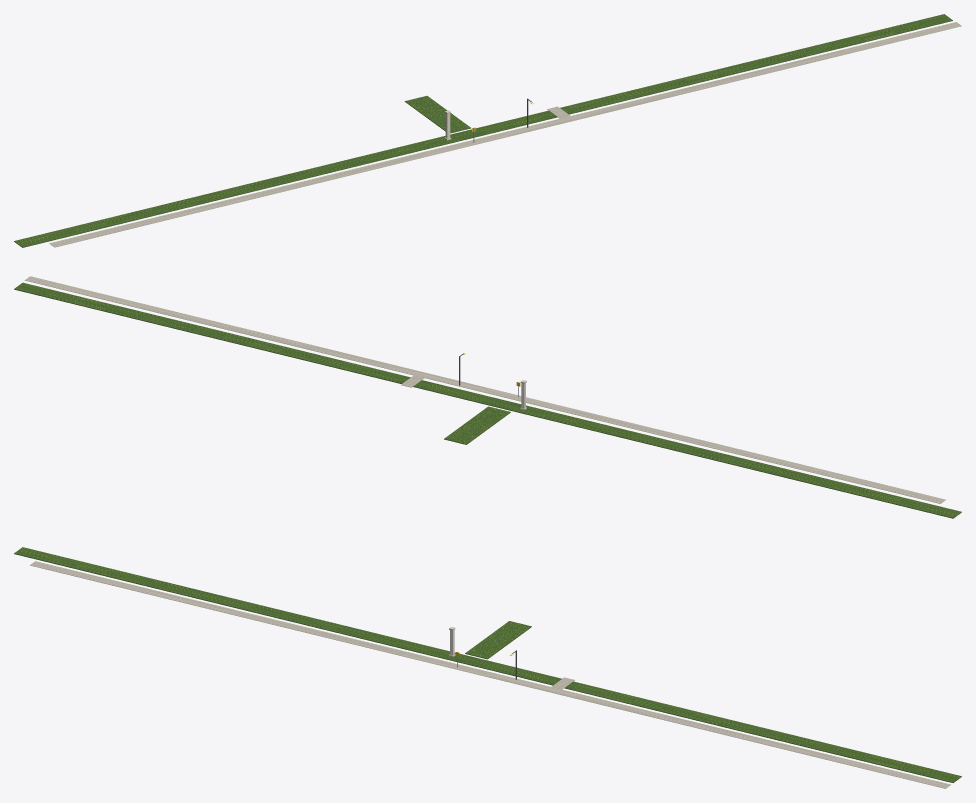
The model's file is structure.glb.
The picture shows the model from 3 angles, top to bottom: view 1: azimuth 30°, elevation 25°; view 2: azimuth 150°, elevation 25°; view 3: azimuth 330°, elevation 25°; orthographic projection.
Visible parts, largest first — view 1: Box1, Box3, Box2; view 2: Box1, Box3, Box2; view 3: Box1, Box3, Box2.
Boxes of the visible parts, x1,y1,x2,y2 form: Box1: [14, 14, 952, 247]; Box3: [49, 22, 961, 247]; Box2: [404, 96, 470, 133]; Box1: [14, 282, 961, 518]; Box3: [24, 276, 945, 503]; Box2: [444, 406, 510, 444]; Box1: [14, 547, 961, 782]; Box3: [30, 561, 950, 788]; Box2: [465, 621, 531, 659].
Bounding box in the file's own units: 156 × 4.72 × 18.45.
Materials: 8 (2 with a texture image).
